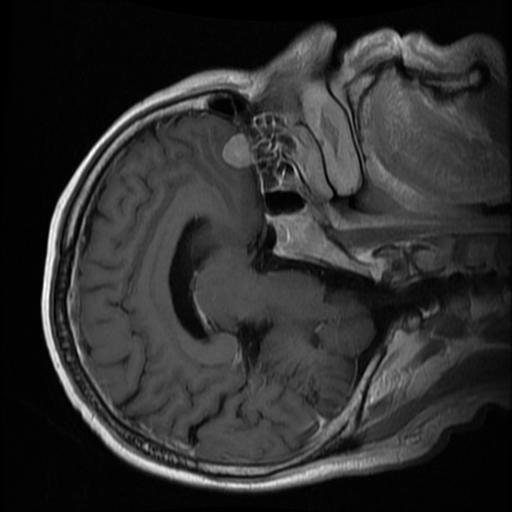meningioma: (219, 132, 251, 167)
